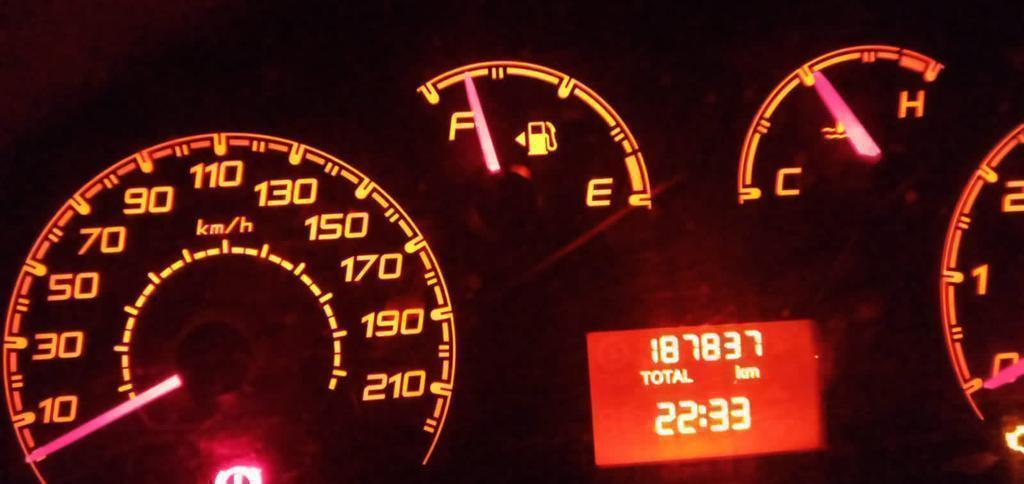1: (650, 334, 658, 364)
2: (653, 399, 675, 435), (677, 398, 697, 435)
3: (730, 395, 752, 432), (709, 397, 728, 432), (722, 330, 741, 359)
7: (744, 326, 764, 358), (682, 332, 700, 360)
8: (659, 332, 679, 363), (701, 331, 720, 362)
X: (745, 365, 760, 379), (698, 403, 706, 429), (683, 366, 695, 383), (650, 369, 662, 385), (672, 368, 683, 385), (639, 369, 650, 385), (735, 363, 745, 380), (663, 368, 673, 383)
odometer: (579, 310, 830, 471)
